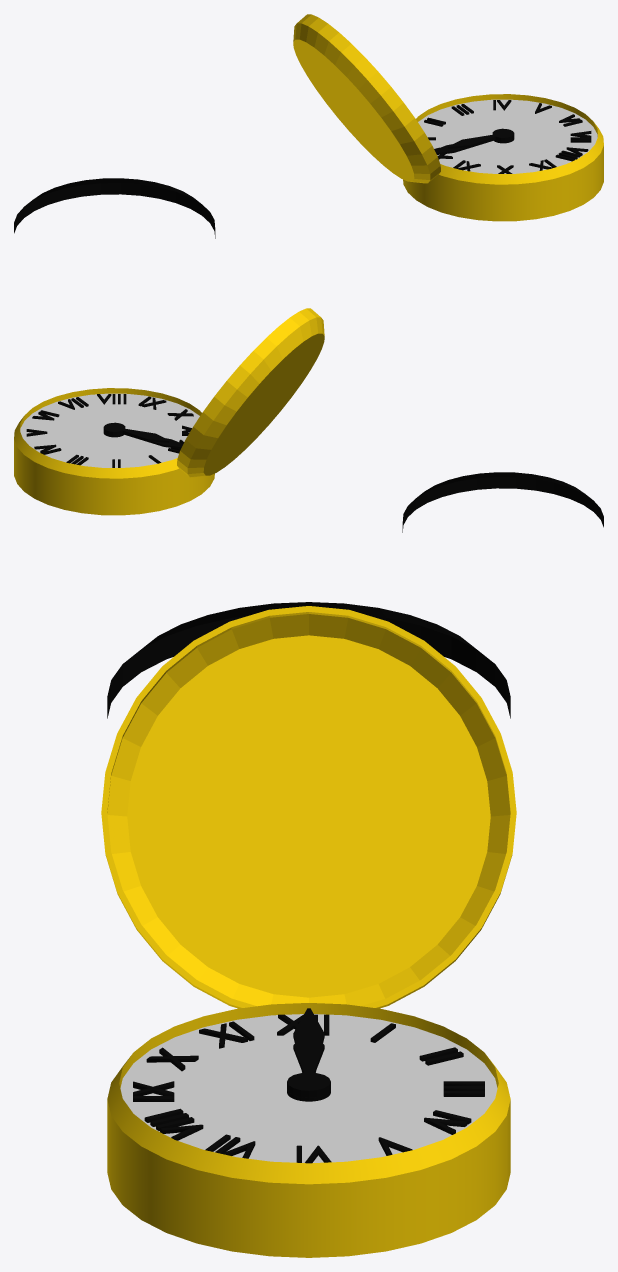
Rendered from PocketWatch.fbx.
The picture shows the model from 3 angles, top to bottom: view 1: azimuth 30°, elevation 25°; view 2: azimuth 150°, elevation 25°; view 3: azimuth 270°, elevation 25°; orthographic projection. The views are drawn at different scales.
Visible parts, largest first — view 1: Clock, Clock.002, Clock.001, Hour hand; view 2: Clock, Clock.002, Clock.001, Hour hand; view 3: Clock.002, Clock, Clock.001, Hour hand, Text.008.
Boxes of the visible parts, x1,y1,x2,y2 form: Clock: (403, 94, 603, 221); Clock.002: (293, 14, 440, 183); Clock.001: (14, 178, 215, 238); Hour hand: (448, 128, 514, 148); Clock: (14, 388, 214, 515); Clock.002: (177, 308, 324, 477); Clock.001: (402, 472, 603, 532); Hour hand: (103, 422, 169, 442); Clock.002: (101, 606, 516, 1008); Clock: (107, 1003, 510, 1257); Clock.001: (107, 602, 510, 718); Hour hand: (287, 1028, 330, 1094); Text.008: (144, 1108, 203, 1140).
Size of the model in its own units: 2161 by 726 by 690.
